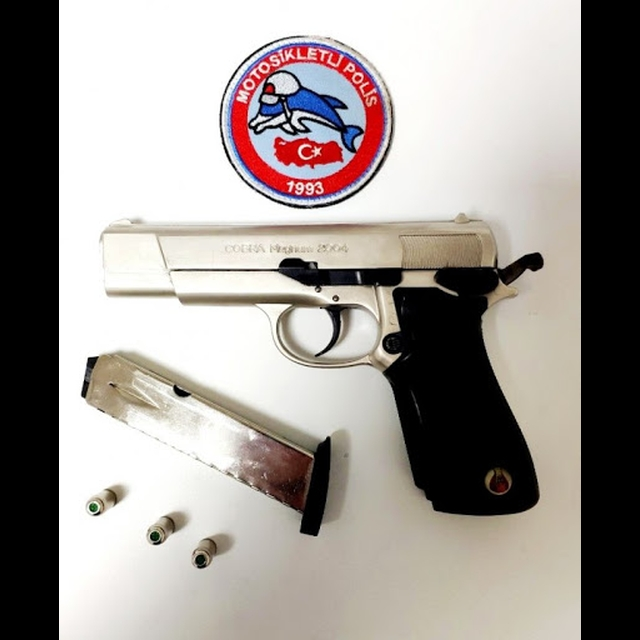SILAH: (93, 216, 542, 520)
